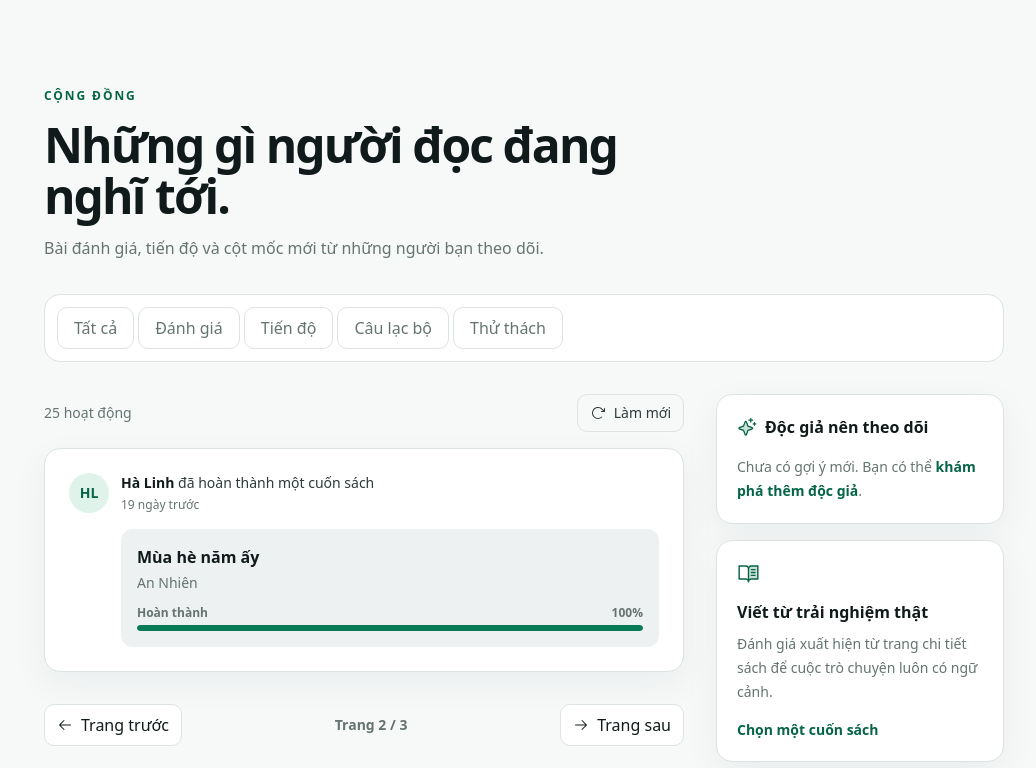
Test: feed v2 › reads filter and page from URL, sends API args, and resets page when the filter changes
This screenshot has width=1036, height=768.
Click the button "Trang sau" at (622, 725), box 560,704 -> 684,746
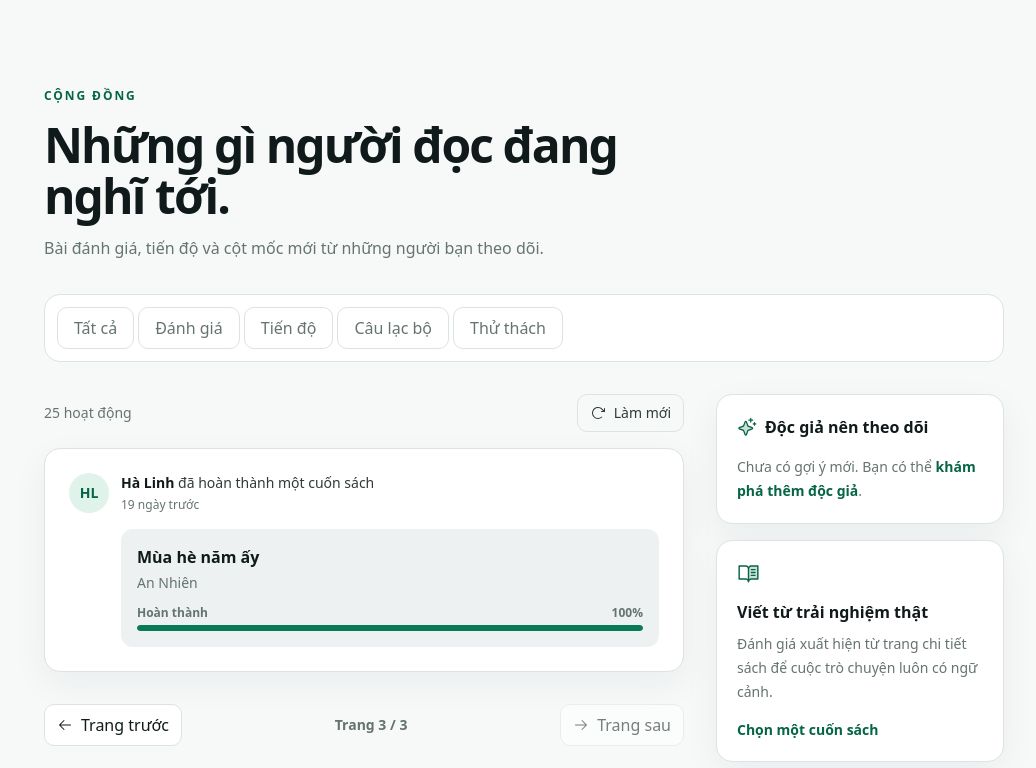
Click the button "Câu lạc bộ" at (393, 328), box 337,307 -> 449,349
(page scrolled)
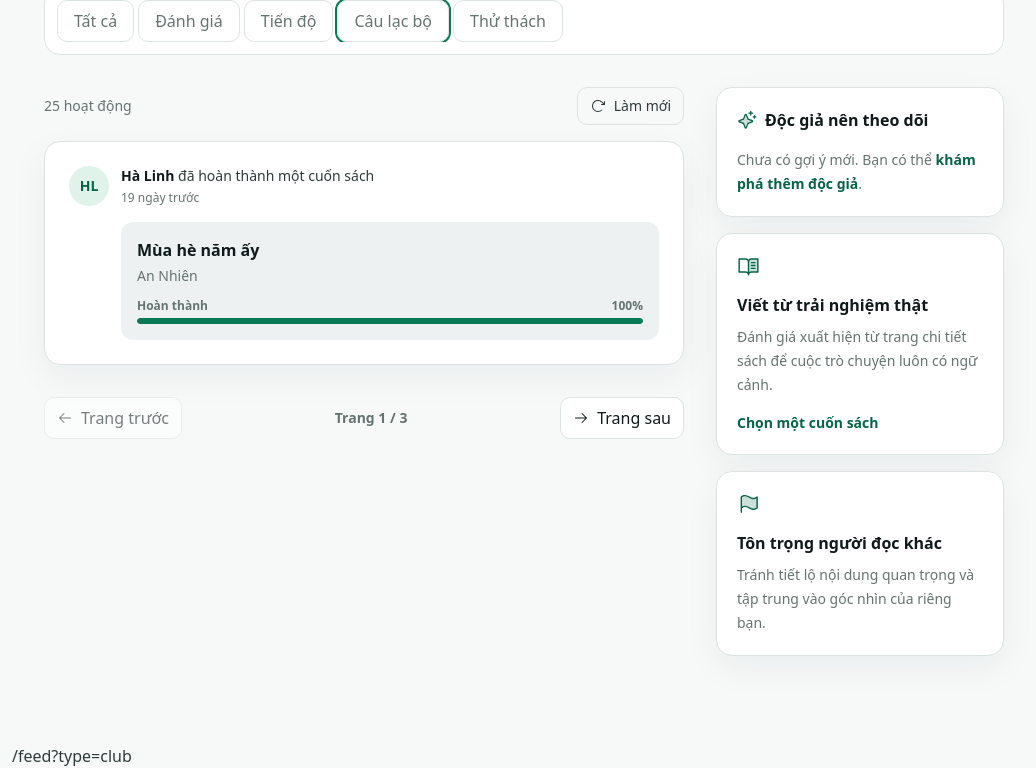
Expected: the text with test id "location" reads "/feed?type=club", 12,745 -> 132,767
